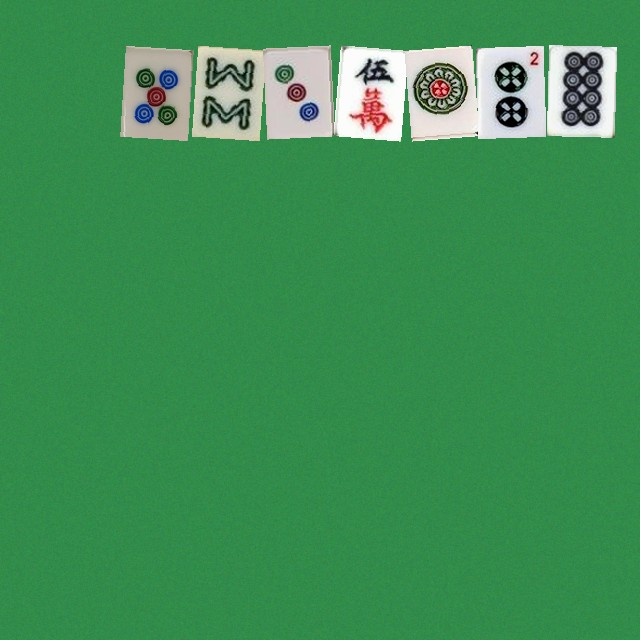tile: (120, 45, 188, 136), (191, 45, 259, 136), (262, 45, 330, 136), (333, 45, 401, 136), (404, 45, 472, 136), (475, 45, 543, 136), (546, 45, 614, 136)
